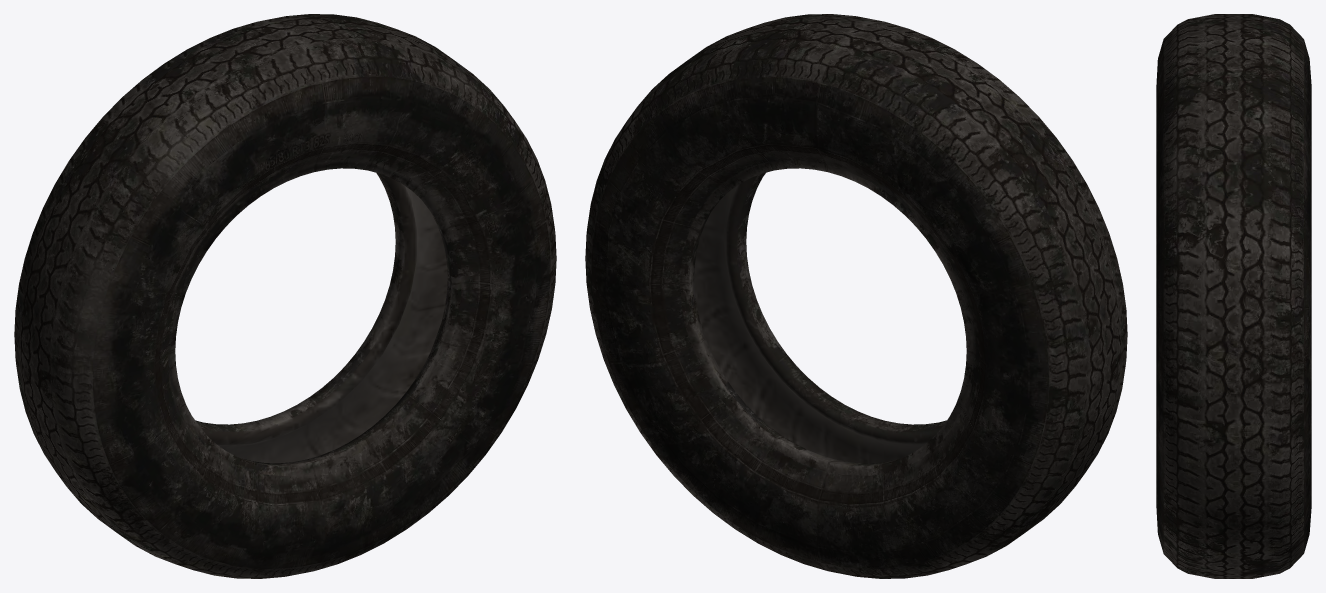
File: old_tyre.glb
3 renders of one model, left to right at view 1: azimuth 30°, elevation 25°; view 2: azimuth 150°, elevation 25°; view 3: azimuth 270°, elevation 25°, orthographic. The views are drawn at different scales.
Visible parts, largest first — view 1: old_tyre; view 2: old_tyre; view 3: old_tyre.
Part boxes in pixels (x1=…): old_tyre: x1=14, y1=14, x2=556, y2=578; old_tyre: x1=585, y1=14, x2=1127, y2=578; old_tyre: x1=1156, y1=14, x2=1311, y2=578.
Size of the model in its own units: 0.6 by 0.6 by 0.165.
1 material, 1 textured.
